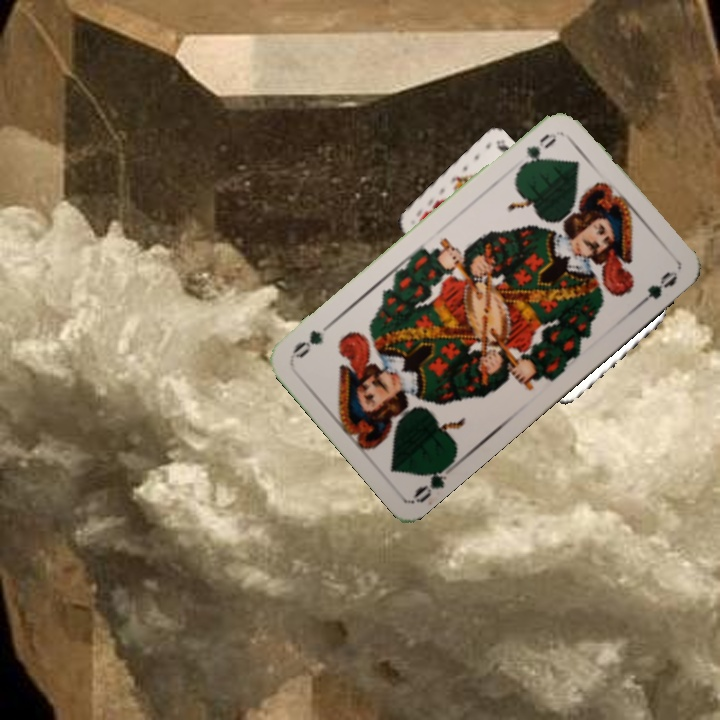GO: (410, 454, 461, 506), (514, 129, 560, 174)
